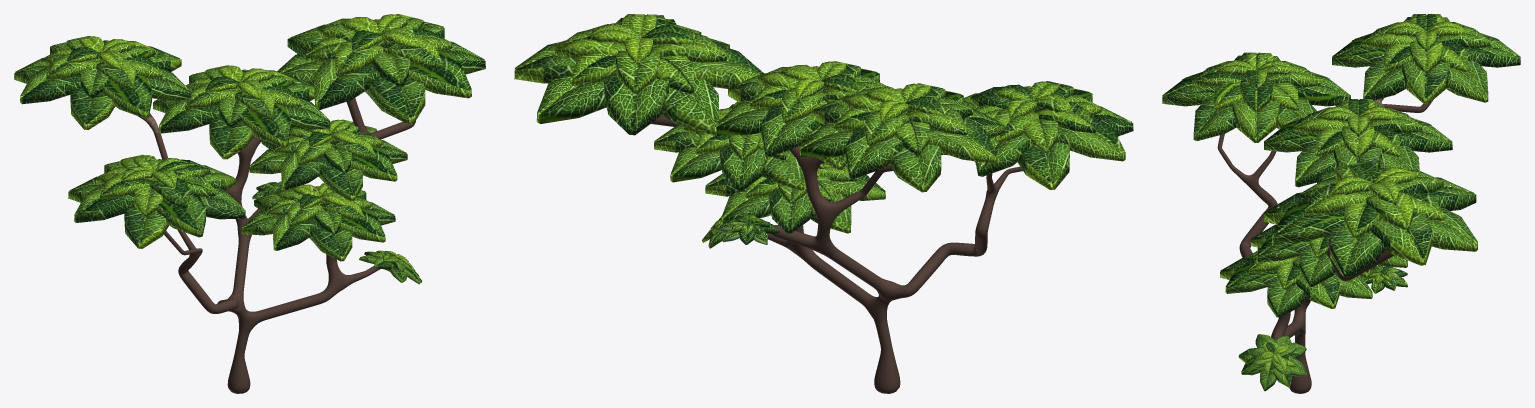
File: ARBOLITOP.fbx
The picture shows the model from 3 angles, left to right: view 1: azimuth 30°, elevation 25°; view 2: azimuth 150°, elevation 25°; view 3: azimuth 270°, elevation 25°; orthographic projection. The views are drawn at different scales.
Parts seen in each view (by area): view 1: Plane; view 2: Plane; view 3: Plane.
Boxes of the visible parts, left/top/right/bottom form: Plane: left=14, top=14, right=485, bottom=393; Plane: left=514, top=14, right=1133, bottom=393; Plane: left=1162, top=14, right=1520, bottom=393.
Bounding box in the file's own units: 3705 × 2493 × 2465.
